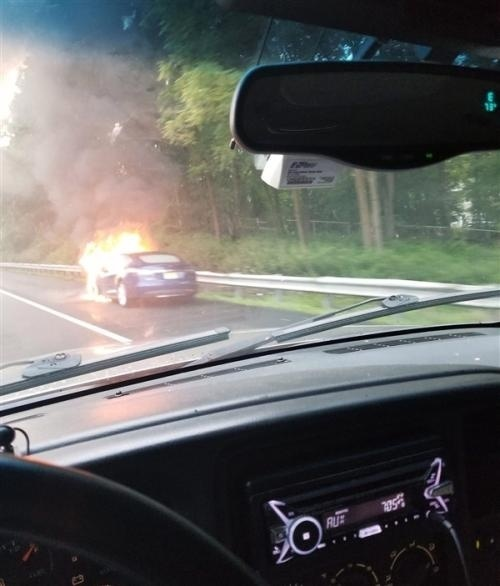fire: (74, 220, 154, 303)
